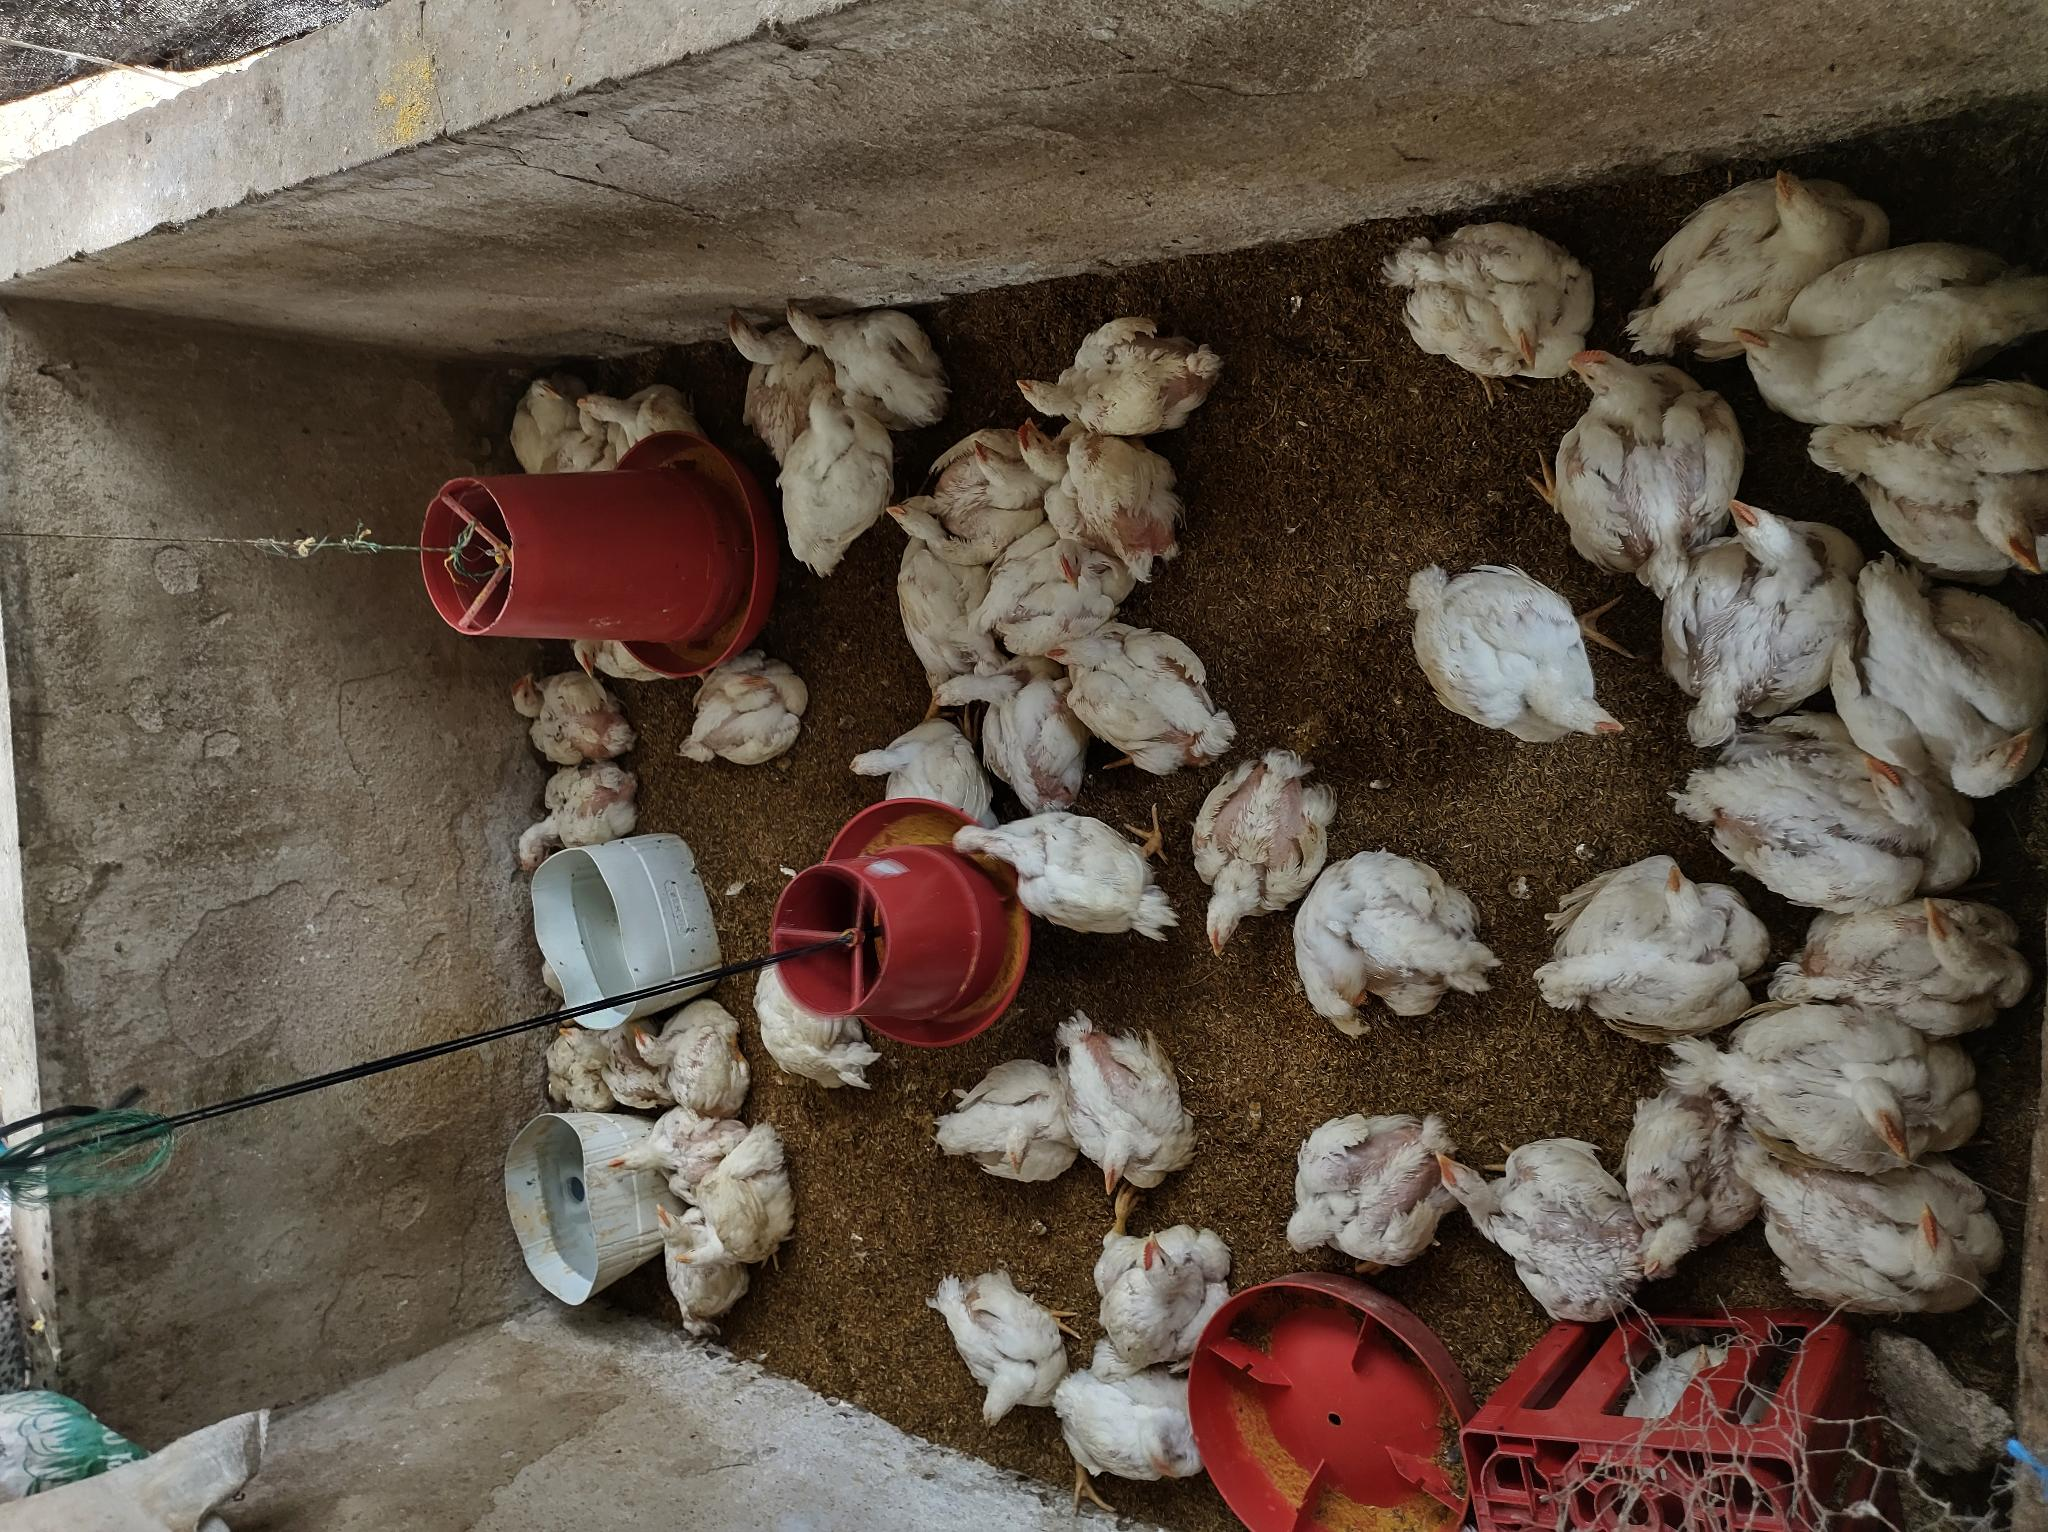Pollos: (1672, 710, 1985, 933), (1717, 233, 2046, 422), (1824, 550, 2048, 797), (1626, 154, 1886, 364), (1649, 488, 1868, 723), (1792, 377, 2048, 574), (1393, 555, 1623, 769), (1699, 999, 1971, 1176), (1544, 341, 1742, 566), (1757, 1131, 2000, 1310), (1285, 846, 1498, 1044), (1432, 1136, 1636, 1336), (1544, 863, 1771, 1032), (940, 805, 1182, 945), (1049, 1006, 1202, 1220), (1623, 1065, 1765, 1292), (1282, 1109, 1451, 1297), (1393, 211, 1580, 377), (1194, 752, 1339, 964), (1038, 624, 1239, 776), (1779, 900, 2025, 1020), (922, 665, 1108, 817), (1022, 412, 1187, 571), (1033, 1361, 1216, 1505), (1010, 309, 1219, 433), (1089, 1183, 1231, 1361), (882, 500, 1026, 673), (930, 1266, 1075, 1432), (782, 377, 898, 566), (783, 293, 956, 418), (920, 1057, 1067, 1192), (965, 533, 1137, 647), (677, 1122, 788, 1286), (750, 961, 877, 1098), (679, 655, 817, 769), (627, 995, 755, 1115), (718, 306, 825, 446), (835, 724, 985, 822), (516, 760, 639, 879), (502, 665, 640, 769), (600, 1099, 750, 1192), (647, 1196, 742, 1337), (496, 365, 618, 473), (907, 434, 1054, 513), (536, 1023, 652, 1110), (574, 380, 698, 451), (560, 637, 664, 689)
